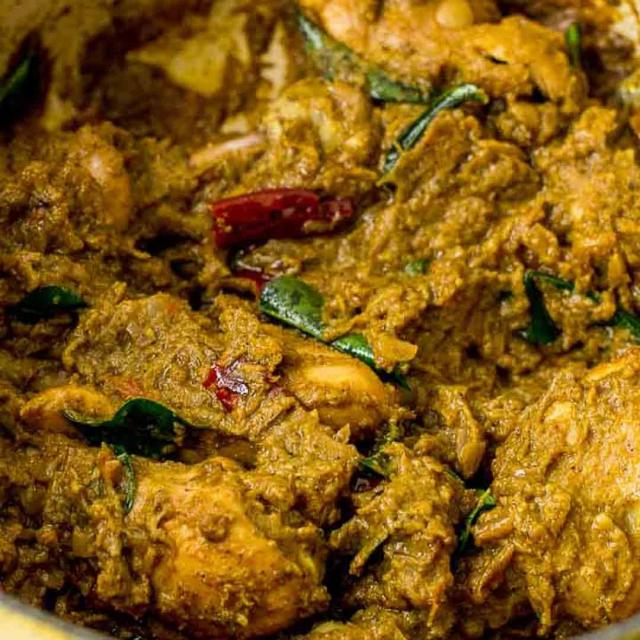chicken: (16, 7, 640, 640)
